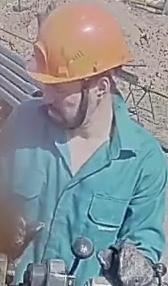gloves: (93, 238, 156, 286)
helmet: (23, 0, 131, 93)
vest: (1, 92, 167, 285)
